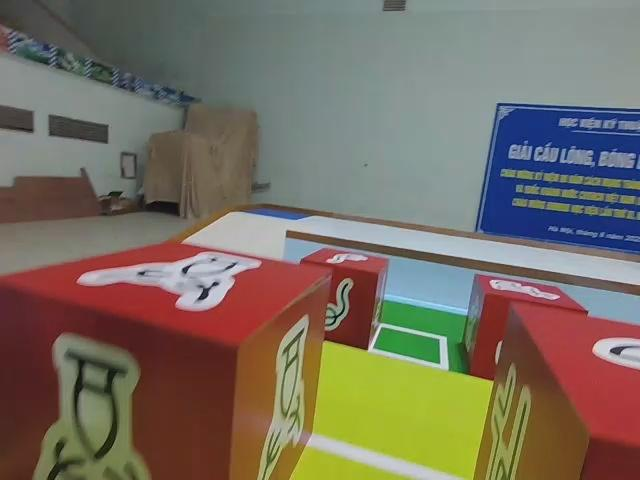R2 Real: (0, 235, 334, 480), (471, 300, 640, 480), (297, 242, 391, 351)
